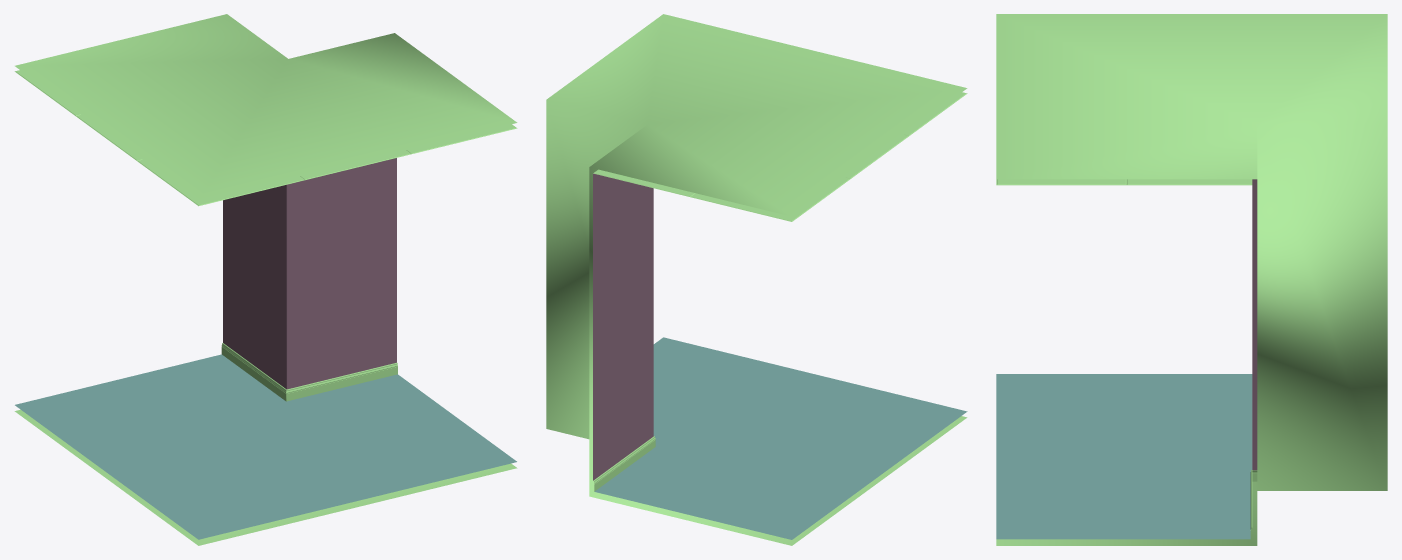
File: Room_2x2_corner_out_geo.fbx
3 renders of one model, left to right at view 1: azimuth 30°, elevation 25°; view 2: azimuth 150°, elevation 25°; view 3: azimuth 270°, elevation 25°, orthographic. The views are drawn at different scales.
Parts seen in each view (by area): view 1: Room_2x2_corner_out_geo; view 2: Room_2x2_corner_out_geo; view 3: Room_2x2_corner_out_geo.
Part boxes in pixels (x1=…): Room_2x2_corner_out_geo: x1=14, y1=14, x2=517, y2=545; Room_2x2_corner_out_geo: x1=546, y1=14, x2=967, y2=545; Room_2x2_corner_out_geo: x1=996, y1=14, x2=1387, y2=545.
Bounding box in the file's own units: 3 × 3.1 × 3.
